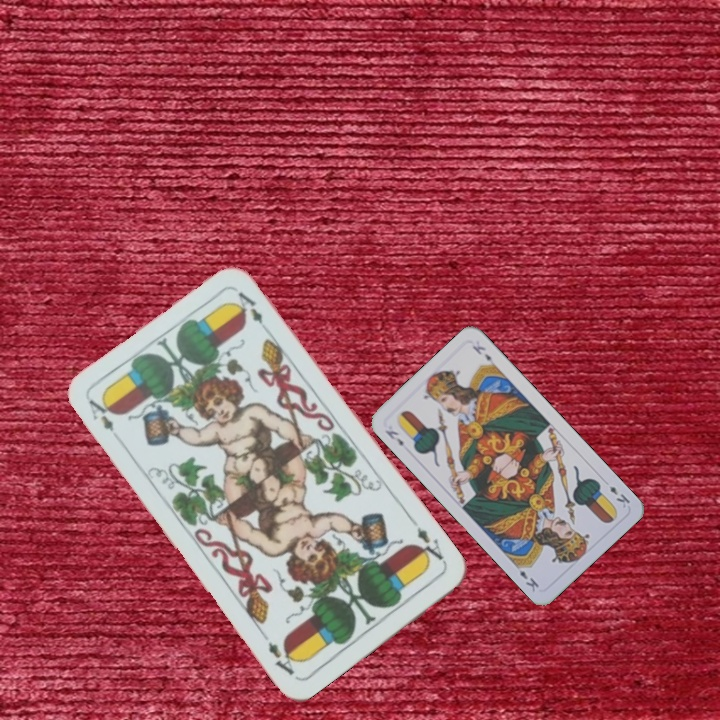EA: (411, 523, 449, 568), (84, 393, 119, 434)
EK: (605, 482, 632, 511), (381, 426, 406, 449)
